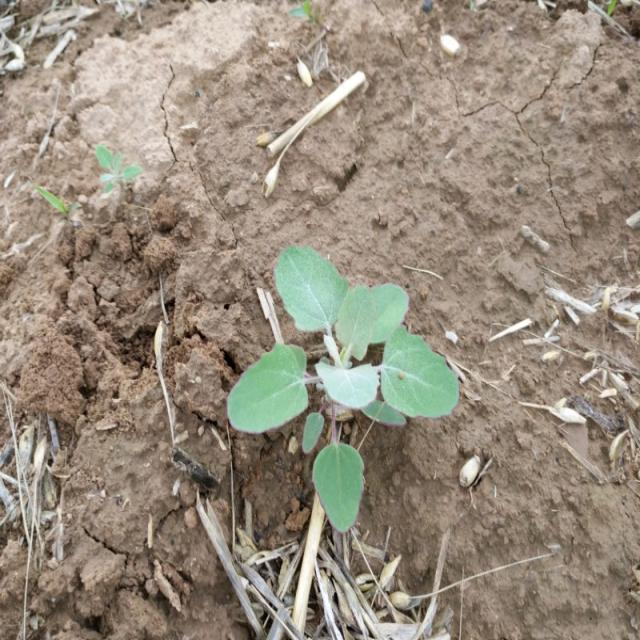goosefoots: (203, 239, 472, 532)
